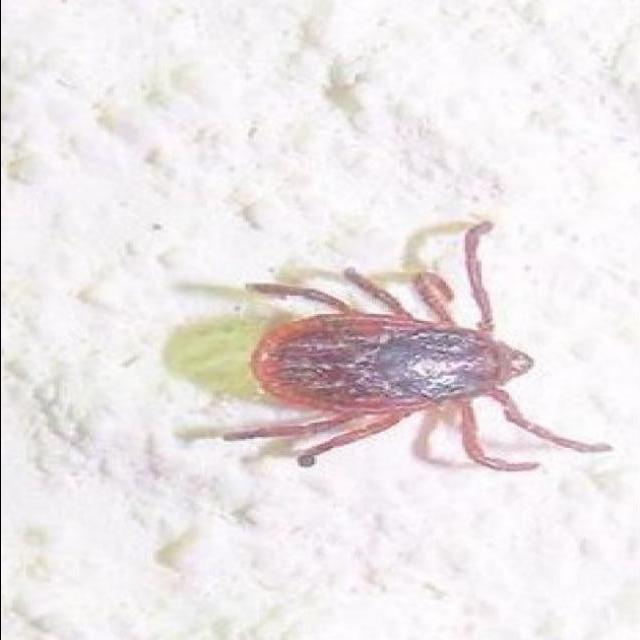Rhipicephalus Sanguineus-F: (180, 218, 610, 475)
